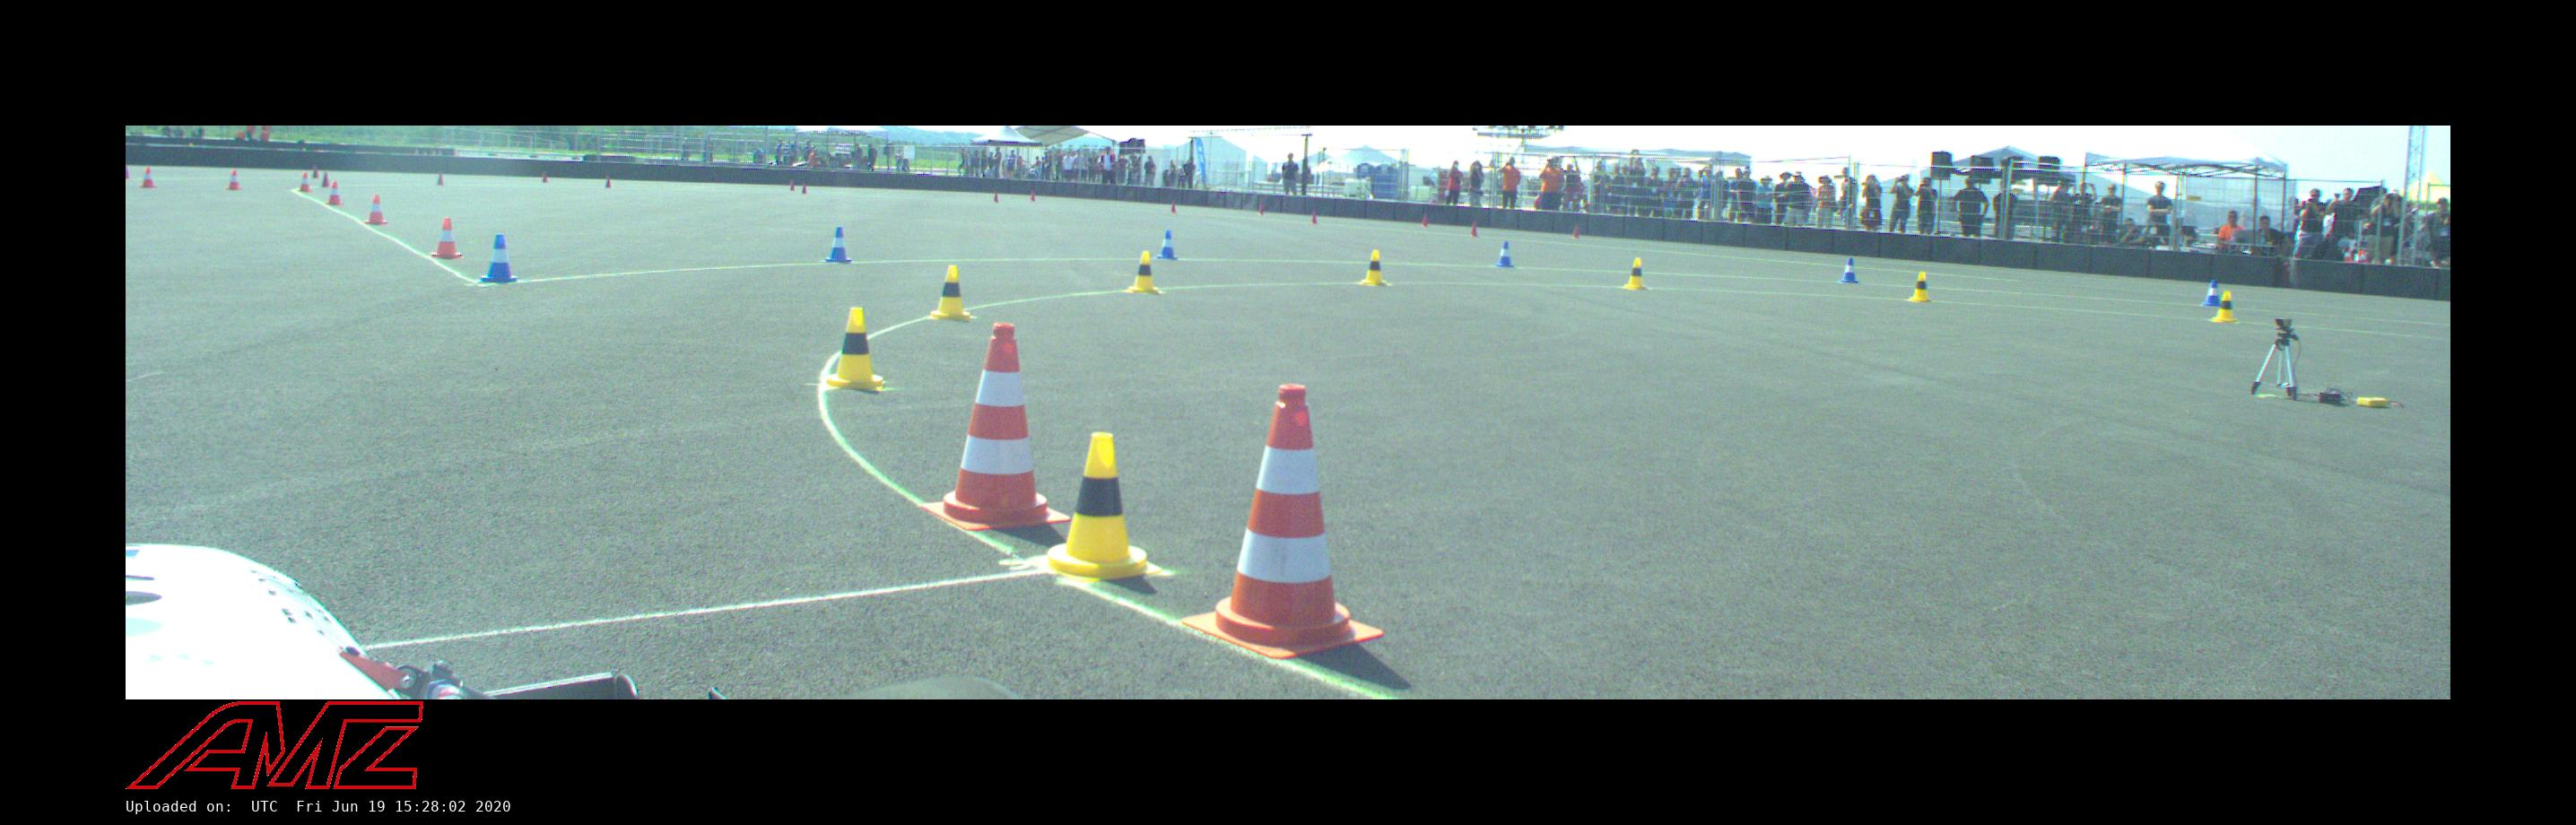blue_cone: (481, 233, 519, 281), (825, 227, 853, 263), (1157, 230, 1178, 260), (1840, 258, 1858, 283), (1497, 242, 1513, 268), (2203, 281, 2219, 306)
large_orange_cone: (1181, 385, 1383, 659), (918, 322, 1069, 529)
orange_cone: (430, 219, 463, 258), (363, 196, 388, 224), (325, 181, 343, 204), (223, 171, 241, 189), (138, 169, 156, 187), (296, 173, 312, 192)
unknown_cone: (1569, 222, 1584, 238), (1470, 220, 1479, 237), (437, 173, 445, 186), (1311, 210, 1318, 224), (1421, 214, 1428, 227), (798, 182, 807, 192), (789, 179, 795, 191), (992, 191, 999, 202), (1170, 200, 1176, 212)
yellow_cone: (1027, 432, 1161, 583), (818, 307, 887, 391), (925, 266, 973, 319), (1125, 250, 1160, 293), (1360, 250, 1388, 286), (2211, 291, 2238, 322), (1907, 271, 1934, 301), (1623, 258, 1646, 289)
